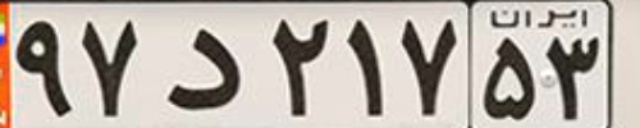1: (345, 18, 383, 116)
2: (272, 17, 331, 116)
3: (544, 35, 600, 121)
5: (482, 36, 534, 121)
7: (400, 18, 462, 116), (80, 18, 135, 116)
9: (15, 20, 70, 115)
dal: (166, 27, 240, 110)
